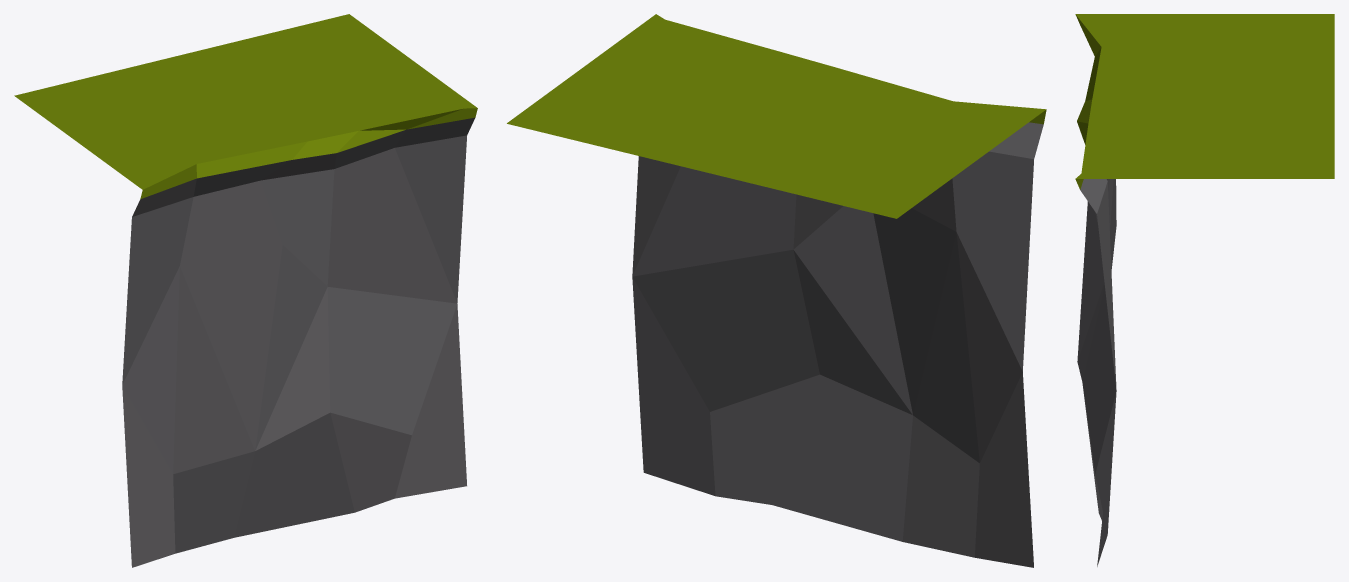
File: mesh_cliff_wall_1m_03.fbx
3 views of the same model, side by side, from view 1: azimuth 30°, elevation 25°; view 2: azimuth 150°, elevation 25°; view 3: azimuth 270°, elevation 25° (orthographic). The views are drawn at different scales.
Parts seen in each view (by area): view 1: mesh_cliff_wall_1m_03; view 2: mesh_cliff_wall_1m_03; view 3: mesh_cliff_wall_1m_03.
Part boxes in pixels (box(x1,y1,x2,y2)): mesh_cliff_wall_1m_03: box(14, 14, 477, 567); mesh_cliff_wall_1m_03: box(507, 14, 1046, 567); mesh_cliff_wall_1m_03: box(1075, 14, 1334, 566).
Size of the model in its own units: 200 by 220 by 133.
